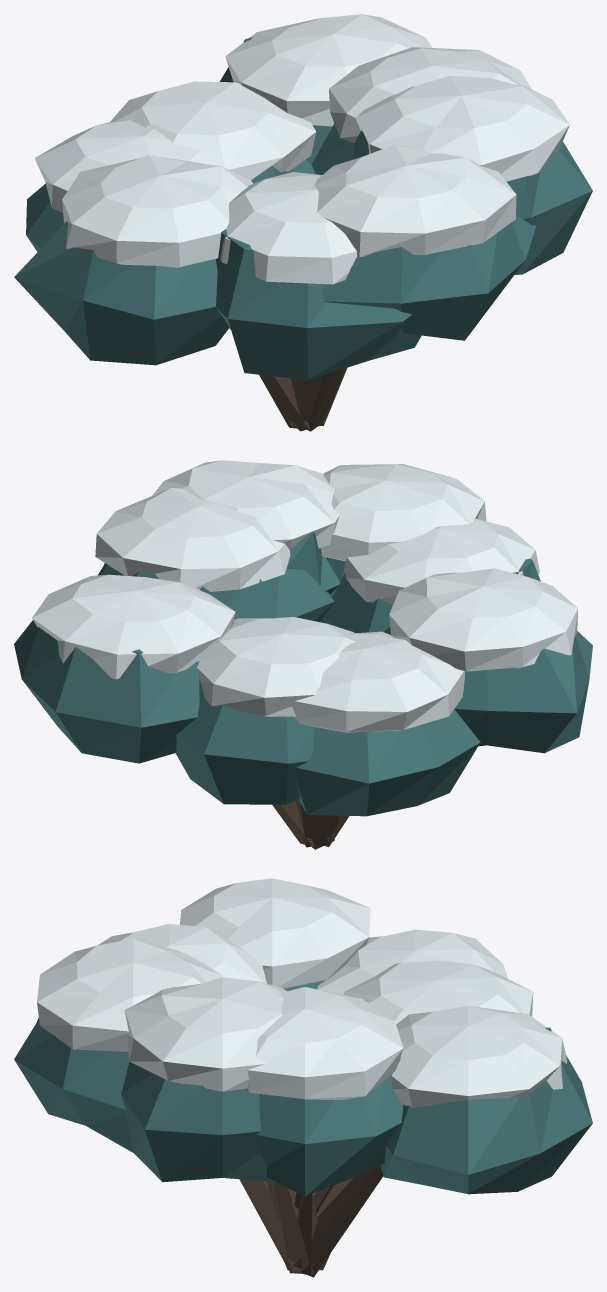
Rendered from PLANT_05_BushSmall.glb.
3 renders of one model, top to bottom at view 1: azimuth 30°, elevation 25°; view 2: azimuth 150°, elevation 25°; view 3: azimuth 270°, elevation 25°, orthographic. The views are drawn at different scales.
Parts seen in each view (by area): view 1: PLANT_05_BushSmall; view 2: PLANT_05_BushSmall; view 3: PLANT_05_BushSmall.
Part boxes in pixels (x1,y1,x2,y2): PLANT_05_BushSmall: [14, 14, 592, 431]; PLANT_05_BushSmall: [14, 460, 592, 849]; PLANT_05_BushSmall: [14, 878, 592, 1277].
Bounding box in the file's own units: 1.74 × 1.06 × 1.69.
